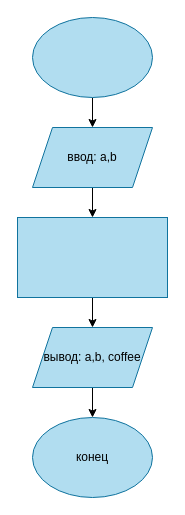
Some shapes in this 185 by 515 pixel diagram are drawn without their labels. Each missing label, with the centre of its shape:
"coffee = ((a % 2 == 0) && (b % 2 != 0)) || ((a % 2 != 0) && (b % 2 == 0))" belongs at (x=92, y=257).
"начало" belongs at (x=92, y=57).
